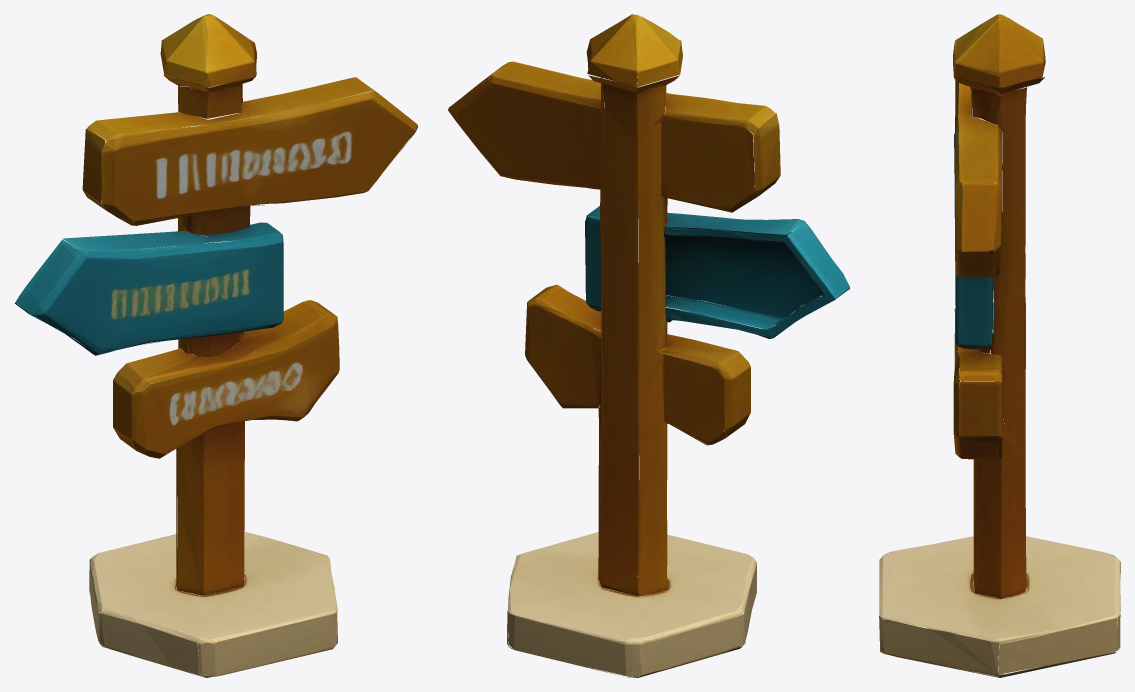
The model's file is triple_sign.glb.
3 renders of one model, left to right at view 1: azimuth 30°, elevation 25°; view 2: azimuth 150°, elevation 25°; view 3: azimuth 270°, elevation 25°, orthographic.
Parts seen in each view (by area): view 1: geometry_0; view 2: geometry_0; view 3: geometry_0.
Part boxes in pixels (<box>): geometry_0: <box>15,14,418,677</box>; geometry_0: <box>448,14,849,677</box>; geometry_0: <box>879,14,1120,677</box>.
Bounding box in the file's own units: 0.6698 × 0.9997 × 0.3619.
1 material, 1 textured.
